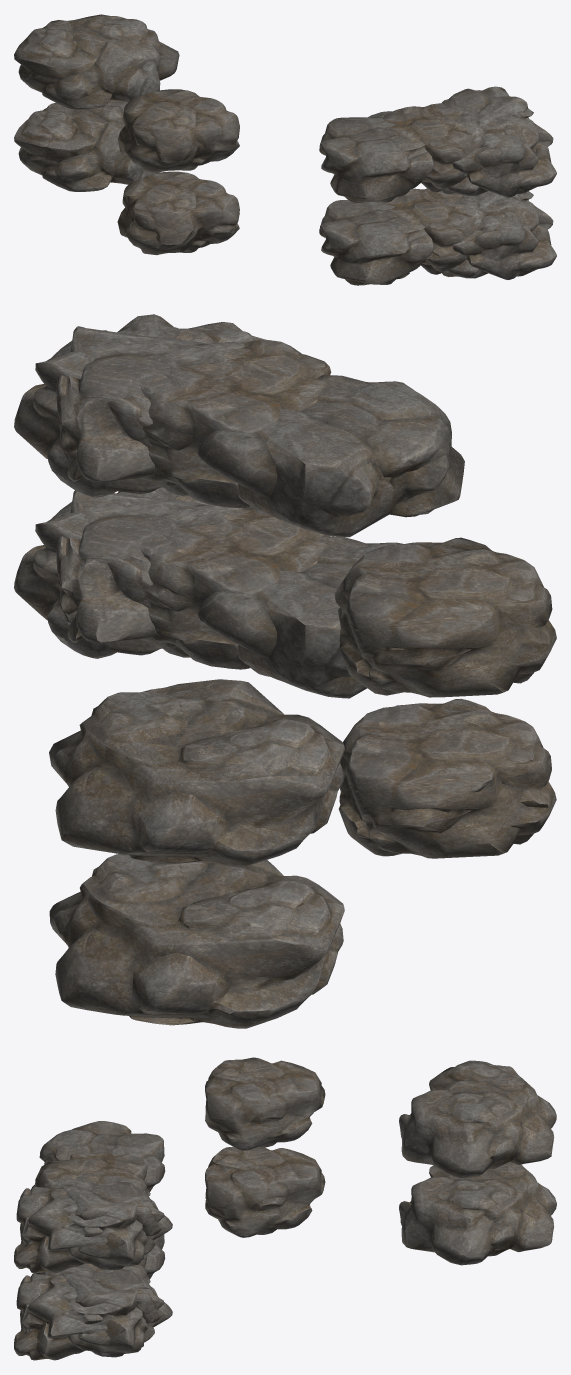
Rendered from Flat_Clusters_A1.fbx.
3 views of the same model, one above another, from view 1: azimuth 30°, elevation 25°; view 2: azimuth 150°, elevation 25°; view 3: azimuth 270°, elevation 25° (orthographic). The views are drawn at different scales.
Visible parts, largest first — view 1: Flat_Cluster_A3.001, Flat_Cluster_A3, Flat_Cluster_A1.001, Flat_Cluster_A1, Flat_Cluster_A2, Flat_Cluster_A2.001; view 2: Flat_Cluster_A3.001, Flat_Cluster_A3, Flat_Cluster_A1.001, Flat_Cluster_A1, Flat_Cluster_A2.001, Flat_Cluster_A2; view 3: Flat_Cluster_A3.001, Flat_Cluster_A1.001, Flat_Cluster_A3, Flat_Cluster_A1, Flat_Cluster_A2.001, Flat_Cluster_A2.
Boxes of the visible parts, x1,y1,x2,y2 form: Flat_Cluster_A3.001: (319, 86, 556, 202); Flat_Cluster_A3: (319, 188, 556, 285); Flat_Cluster_A1.001: (14, 14, 179, 109); Flat_Cluster_A1: (14, 100, 159, 191); Flat_Cluster_A2: (117, 171, 239, 255); Flat_Cluster_A2.001: (117, 89, 239, 172); Flat_Cluster_A3.001: (14, 314, 464, 537); Flat_Cluster_A3: (14, 487, 403, 698); Flat_Cluster_A1.001: (49, 679, 344, 867); Flat_Cluster_A1: (49, 854, 344, 1028); Flat_Cluster_A2.001: (334, 537, 556, 697); Flat_Cluster_A2: (338, 698, 556, 858); Flat_Cluster_A3.001: (14, 1121, 172, 1273); Flat_Cluster_A1.001: (399, 1060, 556, 1178); Flat_Cluster_A3: (14, 1234, 172, 1360); Flat_Cluster_A1: (399, 1162, 556, 1265); Flat_Cluster_A2.001: (205, 1057, 325, 1150); Flat_Cluster_A2: (205, 1147, 325, 1237).
Size of the model in its own units: 2105 by 902 by 2824.
